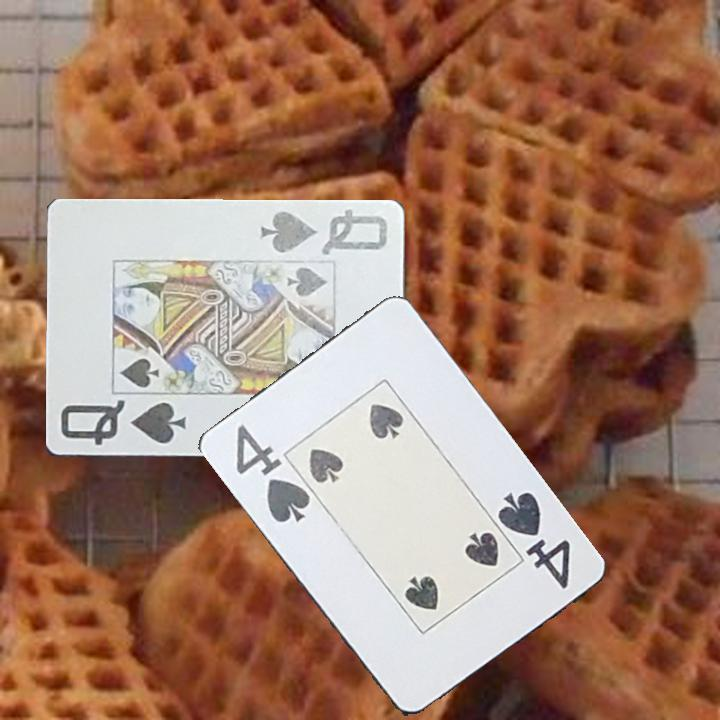4s: (231, 420, 314, 526), (493, 486, 573, 593)
Qs: (258, 205, 390, 259), (56, 396, 188, 449)
